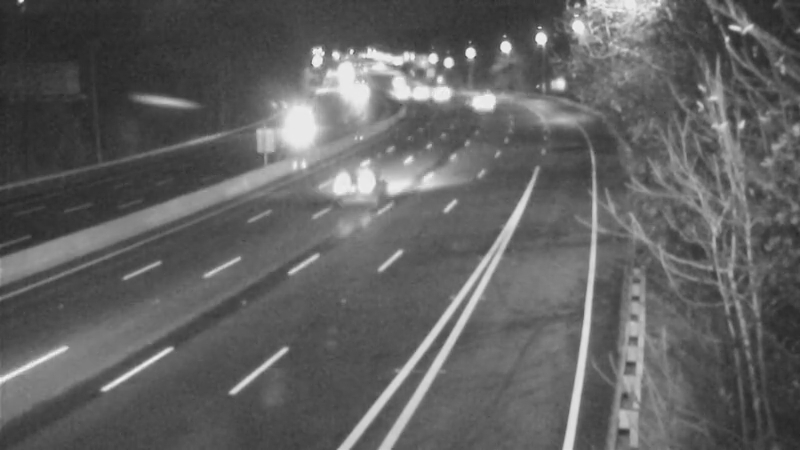vehicle: (323, 141, 403, 221), (394, 67, 444, 117), (374, 69, 424, 119), (409, 67, 459, 117), (451, 77, 501, 127), (273, 104, 323, 154), (332, 68, 382, 118)
